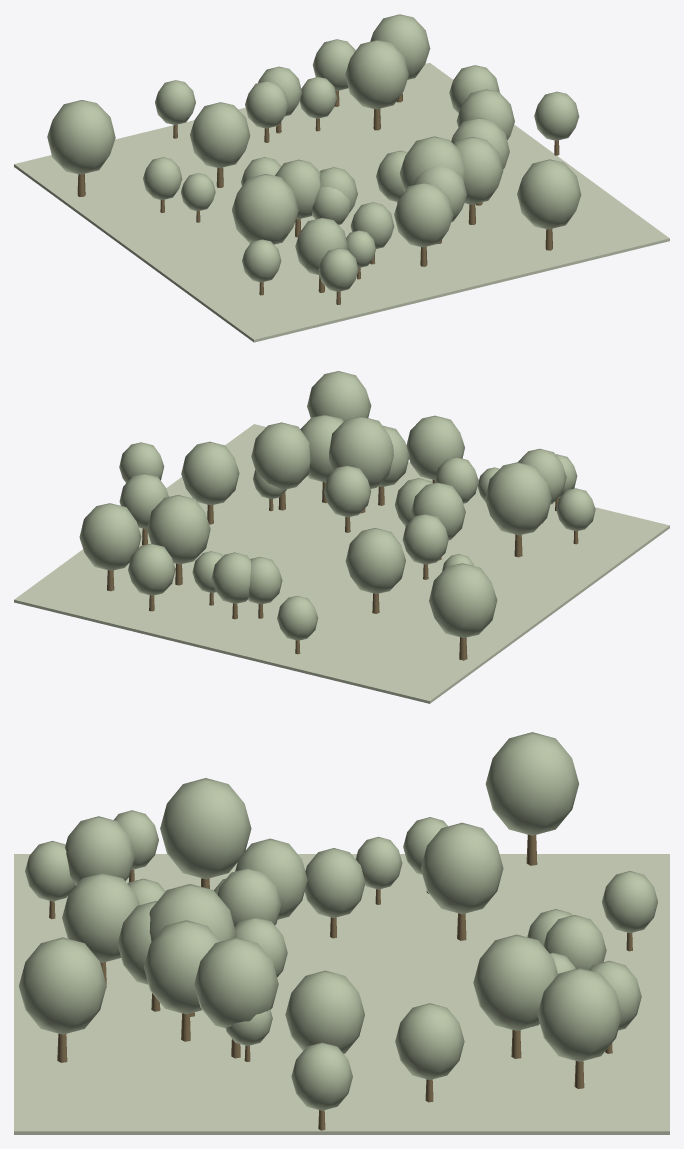
3 renders of one model, top to bottom at view 1: azimuth 30°, elevation 25°; view 2: azimuth 150°, elevation 25°; view 3: azimuth 270°, elevation 25°, orthographic. The views are drawn at different scales.
Visible parts, largest first — view 1: terrain, lod-near-15, lod-near-27, lod-near-10, lod-near-13, lod-near-0, lod-near-21, lod-near-12, lod-near-9, lod-near-1, lod-near-20, lod-near-25 (+20 smaller); view 2: terrain, lod-near-15, lod-near-27, lod-near-1, lod-near-13, lod-near-9, lod-near-19, lod-near-0, lod-near-22, lod-near-21, lod-near-10, lod-near-14 (+15 smaller); view 3: terrain, lod-near-15, lod-near-27, lod-near-10, lod-near-9, lod-near-13, lod-near-0, lod-near-19, lod-near-22, lod-near-12, lod-near-21, lod-near-5 (+18 smaller).
Part boxes in pixels (left/top/right/bottom): terrain: left=14, top=62, right=669, bottom=342; lod-near-15: left=47, top=100, right=115, bottom=174; lod-near-27: left=232, top=174, right=298, bottom=244; lod-near-10: left=517, top=159, right=581, bottom=229; lod-near-13: left=345, top=40, right=408, bottom=109; lod-near-0: left=190, top=102, right=250, bottom=168; lod-near-21: left=394, top=182, right=453, bottom=247; lod-near-12: left=454, top=137, right=503, bottom=204; lod-near-9: left=370, top=14, right=430, bottom=79; lod-near-1: left=399, top=136, right=465, bottom=191; lod-near-20: left=295, top=217, right=348, bottom=275; lod-near-25: left=534, top=91, right=579, bottom=140; terrain: left=14, top=424, right=669, bottom=703; lod-near-15: left=429, top=563, right=497, bottom=637; lod-near-27: left=485, top=462, right=551, bottom=535; lod-near-1: left=329, top=416, right=393, bottom=488; lod-near-13: left=147, top=495, right=210, bottom=564; lod-near-9: left=79, top=503, right=141, bottom=570; lod-near-19: left=251, top=422, right=310, bottom=489; lod-near-0: left=345, top=528, right=405, bottom=593; lod-near-22: left=181, top=441, right=239, bottom=505; lod-near-21: left=406, top=415, right=464, bottom=479; lod-near-10: left=307, top=371, right=371, bottom=421; lod-near-14: left=128, top=543, right=175, bottom=595; terrain: left=14, top=854, right=669, bottom=1134; lod-near-15: left=485, top=732, right=578, bottom=835; lod-near-27: left=160, top=778, right=251, bottom=879; lod-near-10: left=19, top=937, right=106, bottom=1034; lod-near-9: left=537, top=968, right=622, bottom=1061; lod-near-13: left=473, top=934, right=557, bottom=1030; lod-near-0: left=421, top=822, right=503, bottom=914; lod-near-19: left=194, top=937, right=278, bottom=1028; lod-near-22: left=285, top=970, right=364, bottom=1053; lod-near-12: left=144, top=920, right=220, bottom=1014; lod-near-21: left=62, top=873, right=139, bottom=962; lod-near-5: left=395, top=1003, right=464, bottom=1079.
Size of the model in its own units: 34.44 by 7.21 by 32.
